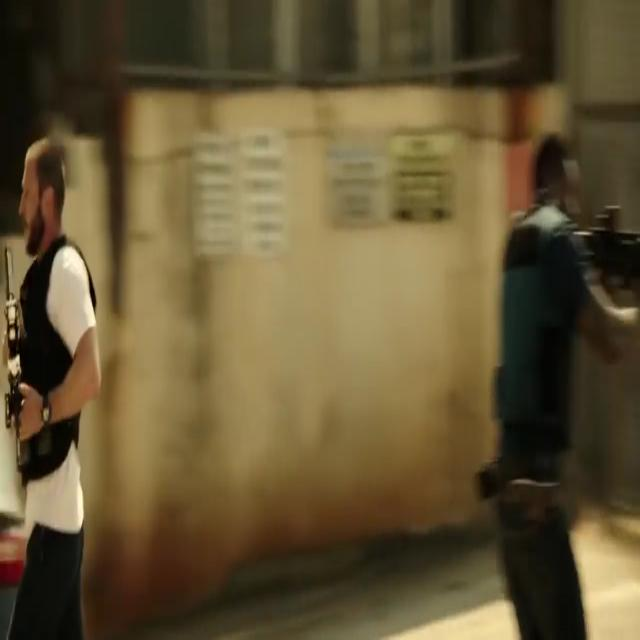Weapon: (5, 240, 46, 491)
